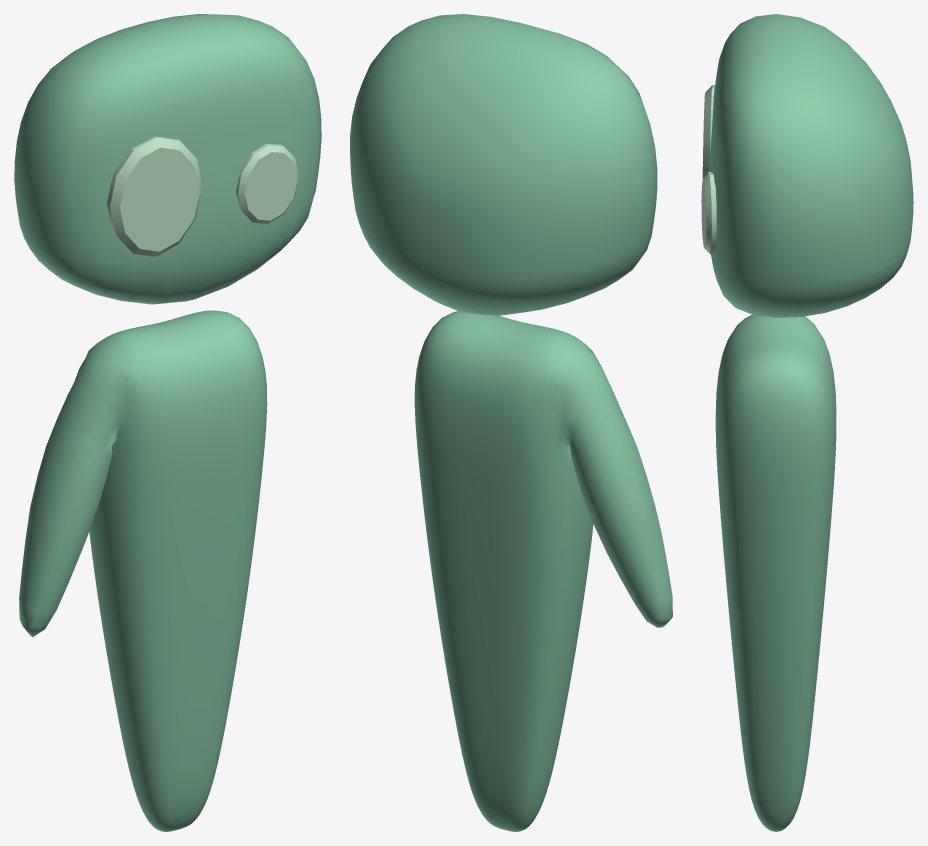
File: Espirito_Arara.fbx
The picture shows the model from 3 angles, left to right: view 1: azimuth 30°, elevation 25°; view 2: azimuth 150°, elevation 25°; view 3: azimuth 270°, elevation 25°; orthographic projection.
Visible parts, largest first — view 1: polySurface22; view 2: polySurface22; view 3: polySurface22.
Part boxes in pixels (<box>): polySurface22: <box>14,14,321,831</box>; polySurface22: <box>350,14,672,831</box>; polySurface22: <box>701,14,913,831</box>.
Bounding box in the file's own units: 1.01 × 2.59 × 0.6321.
